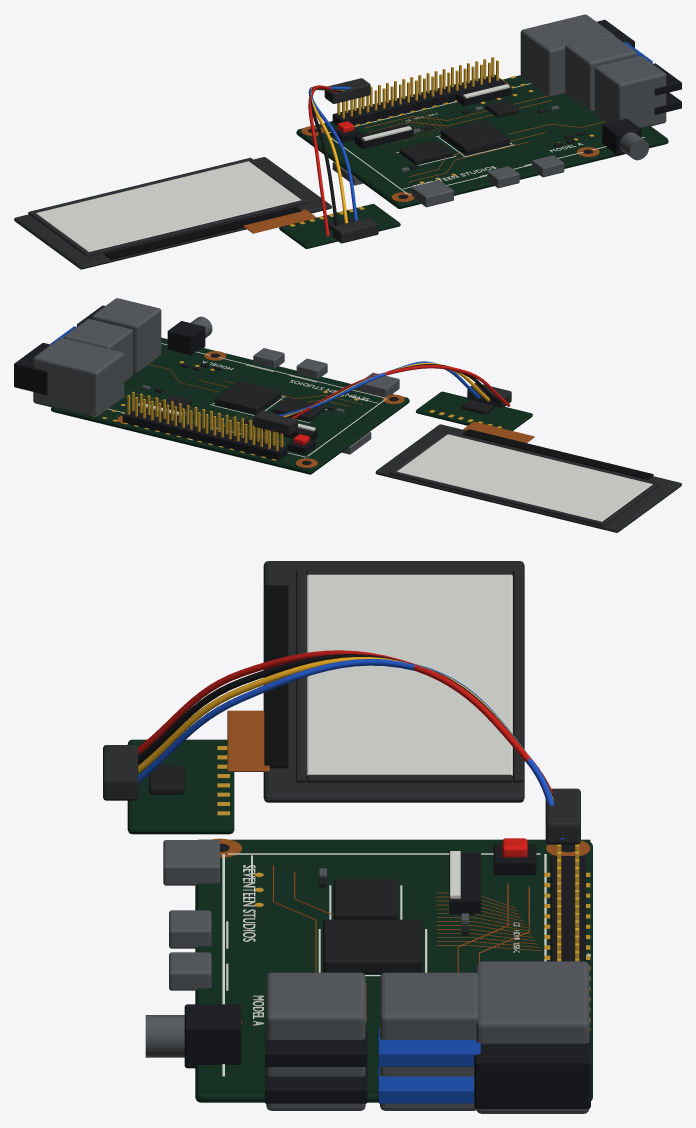
File: raspberry-pi-eink-assembly.glb
3 views of the same model, one above another, from view 1: azimuth 30°, elevation 25°; view 2: azimuth 150°, elevation 25°; view 3: azimuth 270°, elevation 25° (orthographic). The views are drawn at different scales.
Visible parts, largest first — view 1: PCB_Top_Soldermask, EInk_Paper_Panel, Dual_USB2_Stack, Gigabit_Ethernet_RJ45, EInk_Display_Backplate, Dual_USB3_Stack, GPIO_40_Pin_Header_Base, EInk_SPI_Controller_PCB, CPU_Broadcom_BCM2711, EInk_Panel_Driver_Strip, PCB_RaspberryPi4_ModelB_85x56mm, EInk_Frame_Bottom (+17 smaller); view 2: PCB_Top_Soldermask, EInk_Paper_Panel, Gigabit_Ethernet_RJ45, EInk_Display_Backplate, Dual_USB2_Stack, GPIO_40_Pin_Header_Base, EInk_SPI_Controller_PCB, PCB_RaspberryPi4_ModelB_85x56mm, Dual_USB3_Stack, CPU_Broadcom_BCM2711, EInk_Panel_Driver_Strip, RJ45_Cavity (+14 smaller); view 3: EInk_Paper_Panel, PCB_Top_Soldermask, EInk_Display_Backplate, Gigabit_Ethernet_RJ45, Dual_USB2_Stack, Dual_USB3_Stack, RJ45_Cavity, EInk_SPI_Controller_PCB, CPU_Broadcom_BCM2711, EInk_Panel_Driver_Strip, TRRS_Audio_Video_Jack, GPIO_40_Pin_Header_Base (+24 smaller).
Part boxes in pixels (box(x1,y1,x2,y2)): PCB_Top_Soldermask: box(297, 75, 667, 204); EInk_Paper_Panel: box(36, 161, 301, 251); Dual_USB2_Stack: box(594, 55, 666, 127); Gigabit_Ethernet_RJ45: box(520, 14, 614, 96); EInk_Display_Backplate: box(14, 157, 331, 269); Dual_USB3_Stack: box(565, 34, 636, 110); GPIO_40_Pin_Header_Base: box(332, 74, 503, 125); EInk_SPI_Controller_PCB: box(279, 204, 400, 248); CPU_Broadcom_BCM2711: box(440, 119, 509, 155); EInk_Panel_Driver_Strip: box(104, 207, 301, 259); PCB_RaspberryPi4_ModelB_85x56mm: box(296, 130, 668, 208); EInk_Frame_Bottom: box(84, 199, 309, 256); PCB_Top_Soldermask: box(52, 337, 408, 469); EInk_Paper_Panel: box(397, 434, 652, 521); Gigabit_Ethernet_RJ45: box(33, 337, 124, 416); EInk_Display_Backplate: box(375, 424, 681, 532); Dual_USB2_Stack: box(92, 298, 161, 372); GPIO_40_Pin_Header_Base: box(122, 408, 287, 460); EInk_SPI_Controller_PCB: box(415, 391, 532, 430); PCB_RaspberryPi4_ModelB_85x56mm: box(51, 399, 409, 474); Dual_USB3_Stack: box(64, 319, 132, 381); CPU_Broadcom_BCM2711: box(214, 380, 281, 414); EInk_Panel_Driver_Strip: box(463, 429, 653, 479); RJ45_Cavity: box(14, 343, 49, 394); EInk_Paper_Panel: box(306, 574, 512, 775); PCB_Top_Soldermask: box(198, 839, 590, 1092); EInk_Display_Backplate: box(263, 561, 524, 802); Gigabit_Ethernet_RJ45: box(476, 961, 589, 1113); Dual_USB2_Stack: box(266, 972, 365, 1110); Dual_USB3_Stack: box(380, 972, 479, 1110); RJ45_Cavity: box(474, 1030, 590, 1108); EInk_SPI_Controller_PCB: box(127, 739, 234, 834); CPU_Broadcom_BCM2711: box(323, 919, 422, 973); EInk_Panel_Driver_Strip: box(263, 585, 288, 768); TRRS_Audio_Video_Jack: box(184, 1004, 241, 1068); GPIO_40_Pin_Header_Base: box(550, 856, 585, 961).
Size of the model in its own units: 0.191 by 0.0261 by 0.069.
